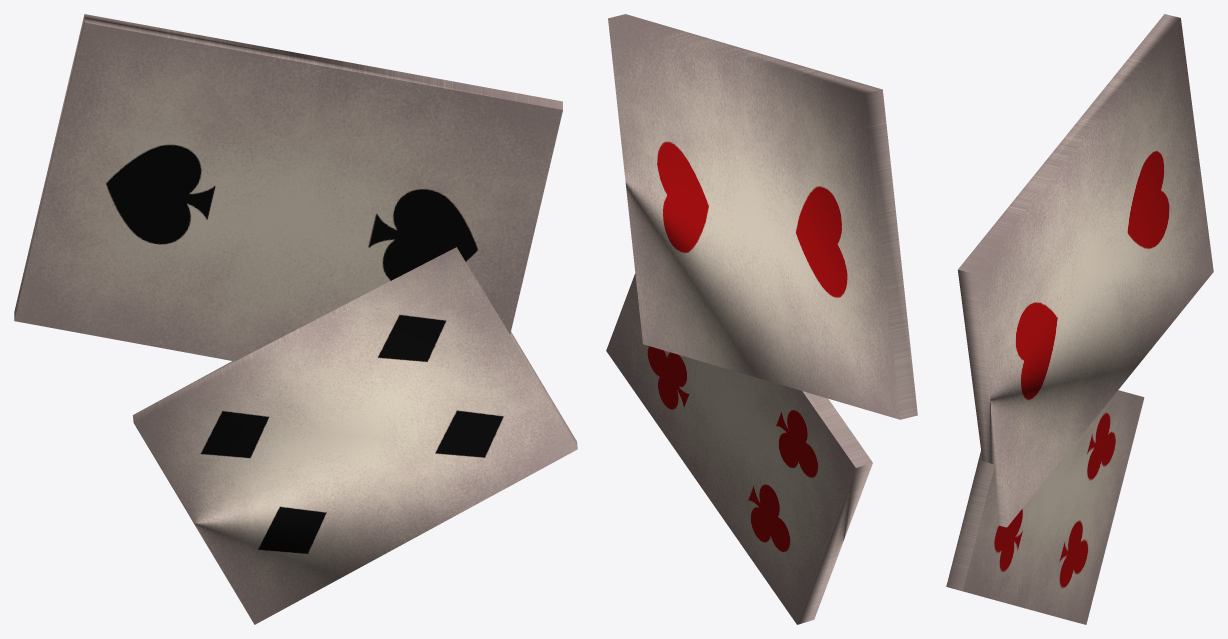
Rendered from FlowtEnemyArmR.fbx.
3 views of the same model, side by side, from view 1: azimuth 30°, elevation 25°; view 2: azimuth 150°, elevation 25°; view 3: azimuth 270°, elevation 25° (orthographic). The views are drawn at different scales.
Parts seen in each view (by area): view 1: polySurface603; view 2: polySurface603; view 3: polySurface603.
Part boxes in pixels (bbox=[...]): polySurface603: bbox=[14, 14, 577, 624]; polySurface603: bbox=[606, 14, 917, 624]; polySurface603: bbox=[946, 14, 1213, 624].
Size of the model in its own units: 0.7058 by 0.9191 by 0.4028.
Materials: 4 (4 with a texture image).
